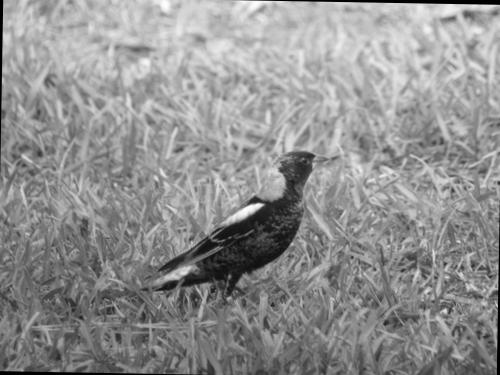bird: (93, 133, 332, 316)
